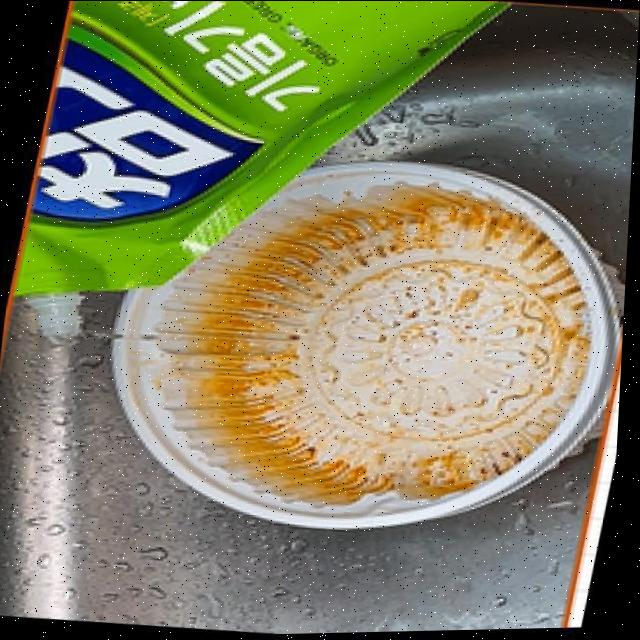disposable: (99, 171, 633, 529)
